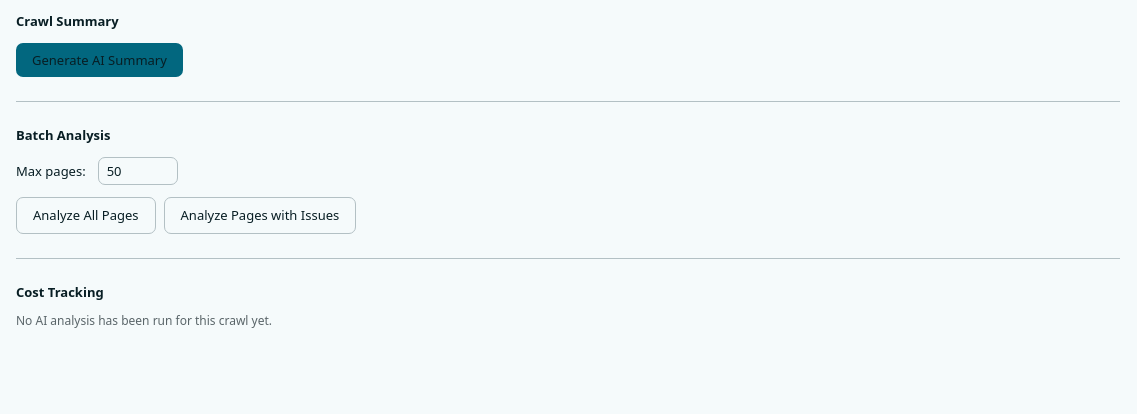
Test case: AiInsightsTab › shows cost estimate confirmation before batch analysis
Click the button "Analyze All Pages" at (86, 216), box [16, 197, 156, 234]
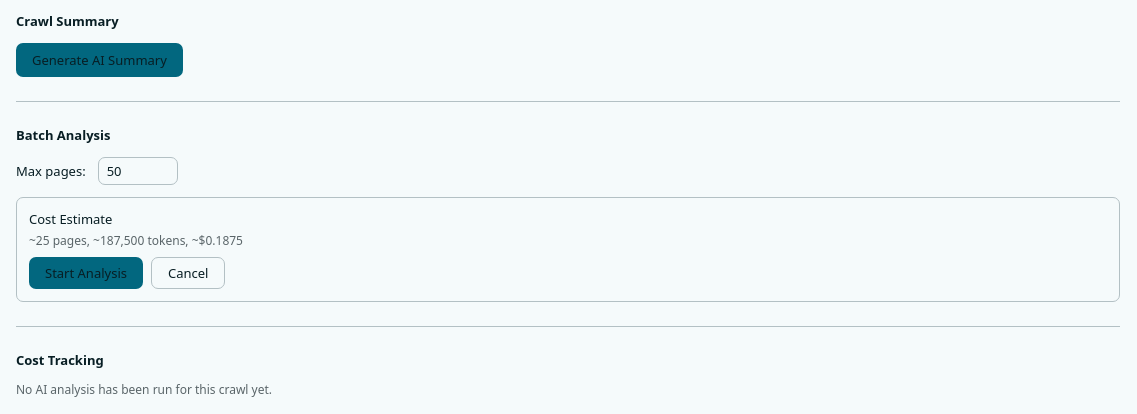
Check: the text "Cost Estimate" is shown, box [29, 210, 112, 228]
Check: the button "Start Analysis" is shown, box [29, 257, 143, 289]
Check: the button "Cancel" is shown, box [151, 257, 226, 289]
